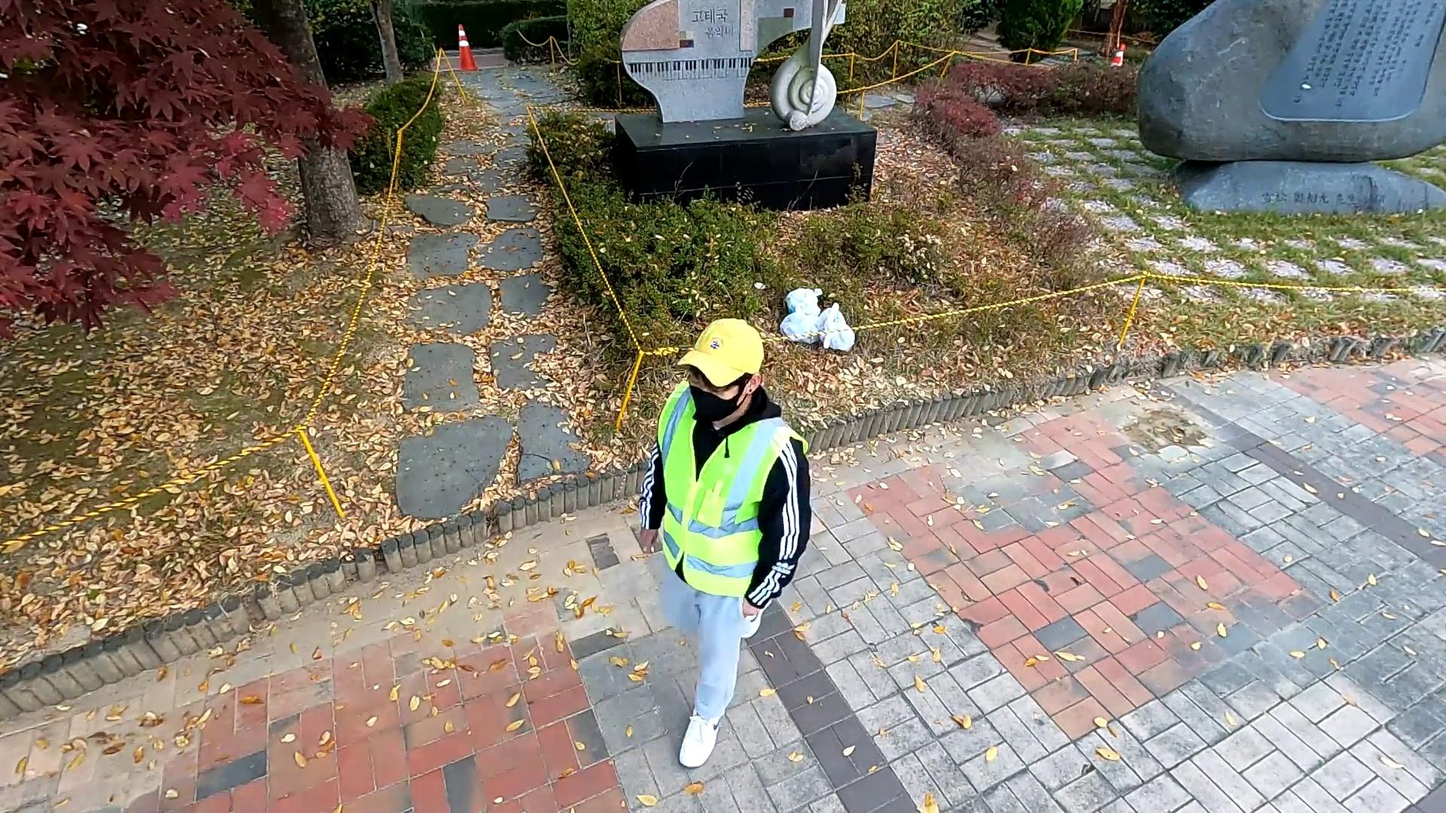person: (633, 317, 816, 775)
trash: (815, 298, 853, 354), (776, 310, 825, 344), (783, 285, 824, 319)
